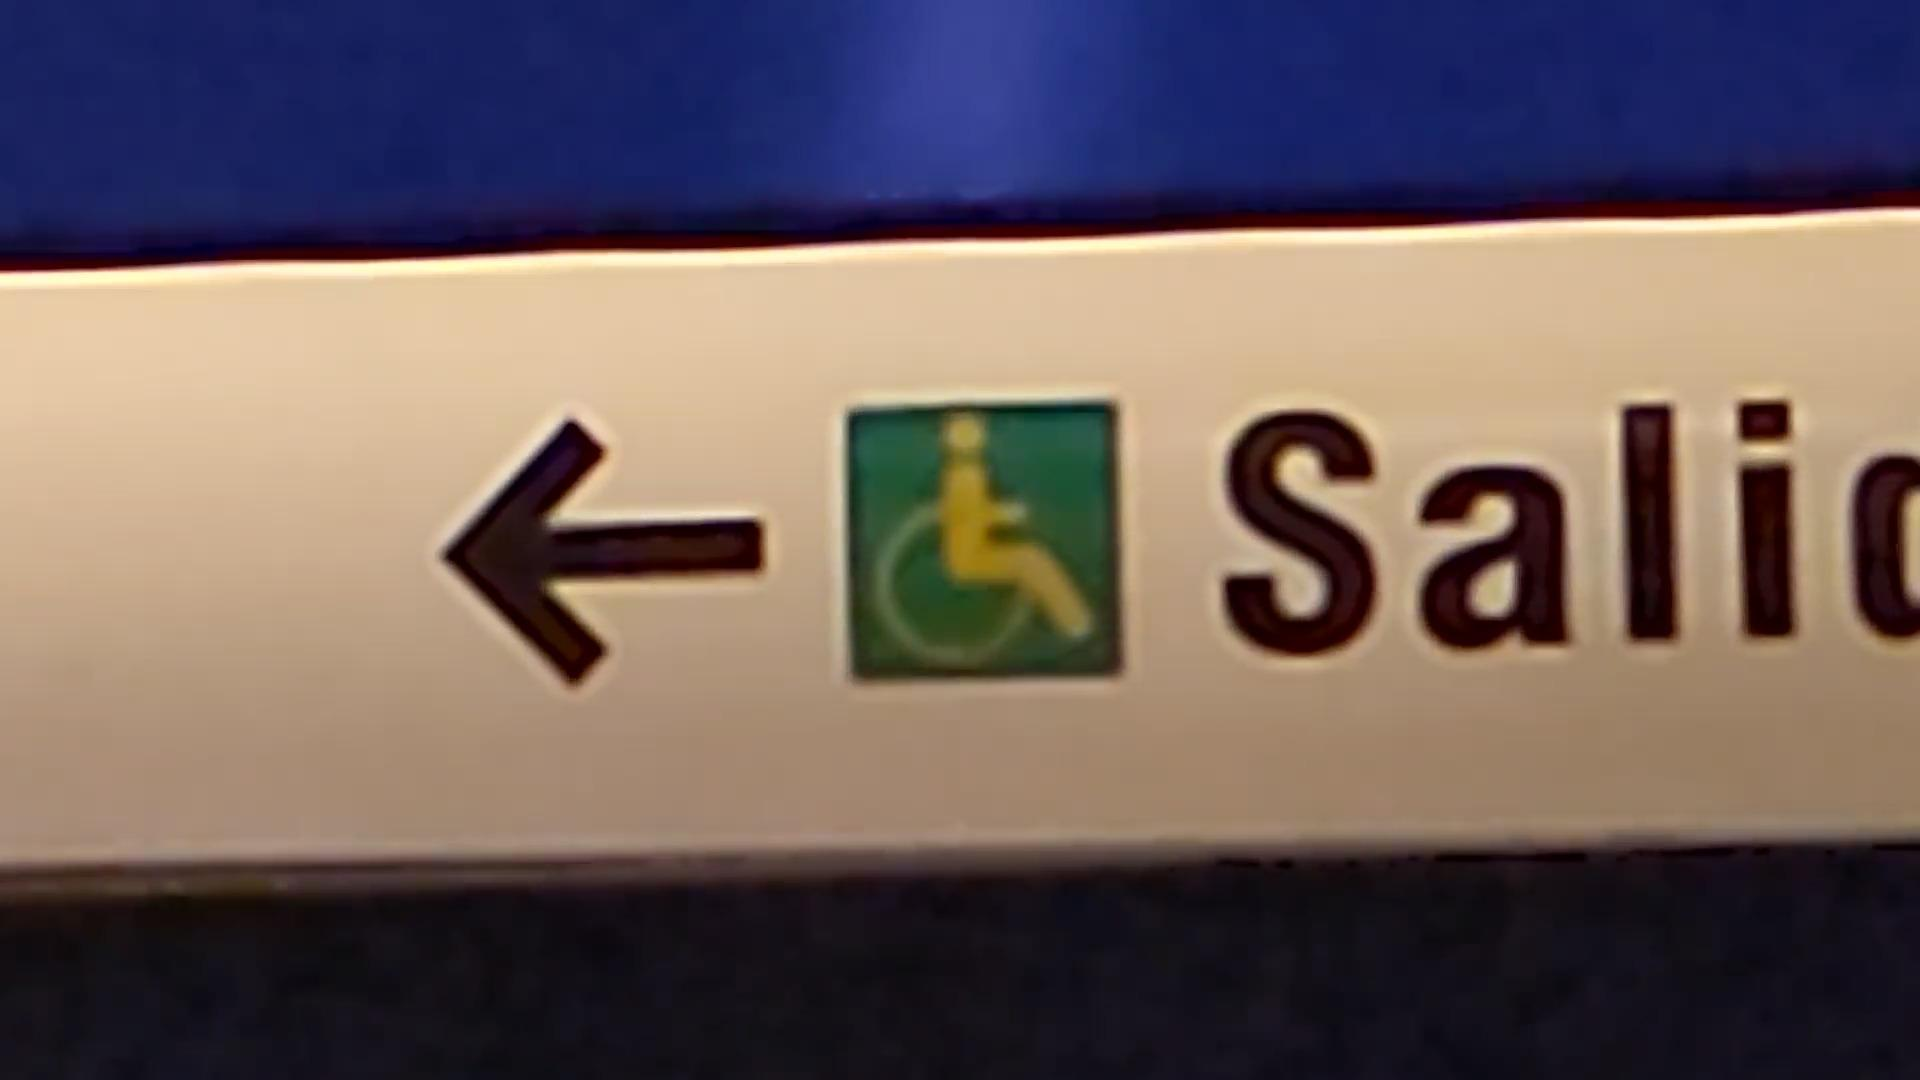handicapped symbol: (434, 406, 777, 699), (870, 411, 1092, 671)
